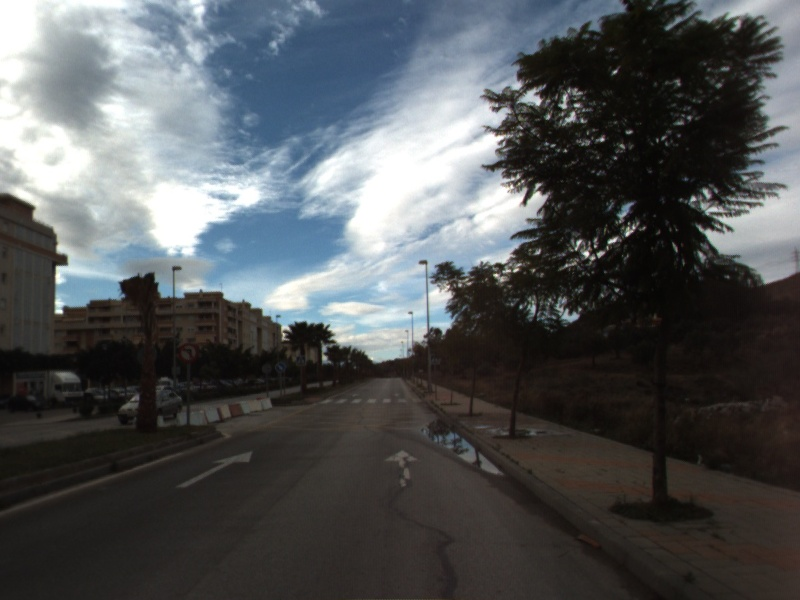STRAIGHT: (174, 449, 255, 490), (382, 447, 424, 490)
